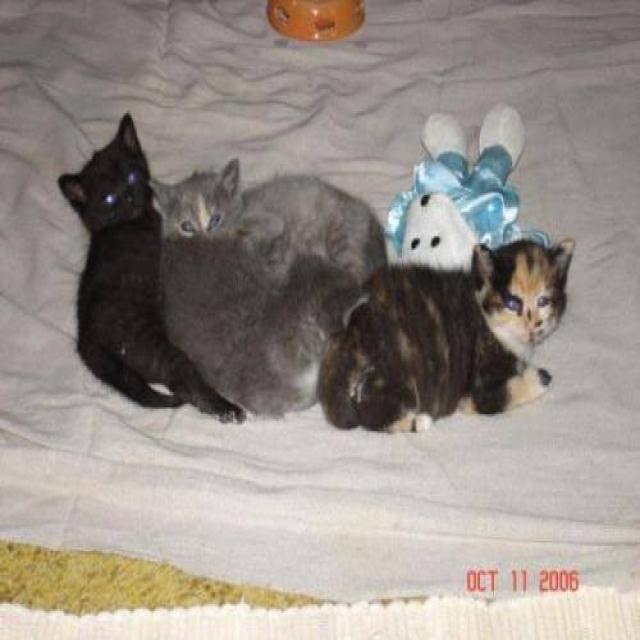cat: (56, 110, 246, 424), (316, 234, 575, 433), (148, 156, 388, 286)
